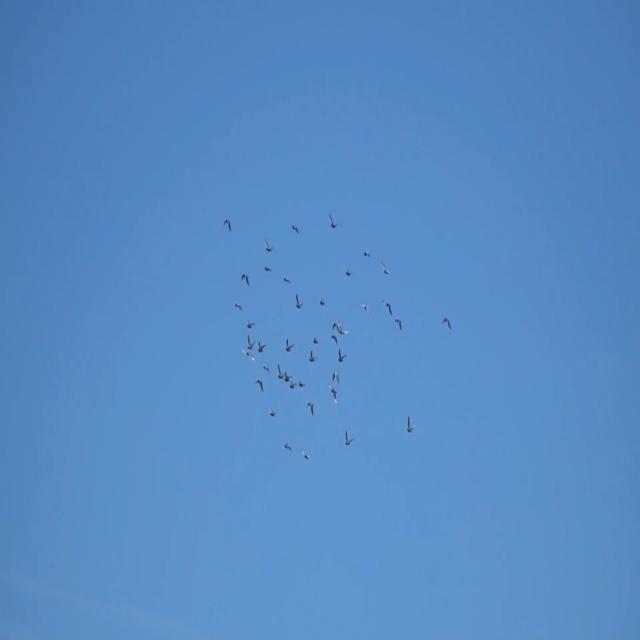bird: (327, 381, 339, 404), (381, 299, 393, 319), (338, 318, 349, 338), (295, 292, 305, 312), (328, 211, 339, 229), (263, 237, 275, 253), (246, 332, 256, 350), (283, 337, 295, 352), (276, 363, 286, 381), (406, 415, 416, 433), (344, 429, 354, 447), (338, 348, 349, 364), (308, 348, 319, 364), (246, 318, 258, 332), (243, 349, 255, 363), (380, 260, 390, 276), (442, 315, 452, 331), (257, 340, 267, 356), (284, 369, 294, 385), (306, 402, 316, 417), (223, 218, 233, 232), (301, 448, 311, 462), (291, 223, 301, 236), (395, 316, 403, 332), (240, 273, 250, 285), (317, 293, 325, 308), (233, 300, 243, 312), (360, 301, 370, 313), (330, 332, 338, 347), (331, 372, 341, 384), (268, 407, 278, 419), (283, 441, 293, 453), (344, 267, 352, 279), (330, 319, 338, 331), (312, 336, 320, 348), (263, 363, 271, 375), (298, 378, 306, 390), (255, 379, 263, 391), (263, 264, 273, 273), (282, 276, 292, 285), (288, 381, 298, 390), (364, 250, 372, 259)
